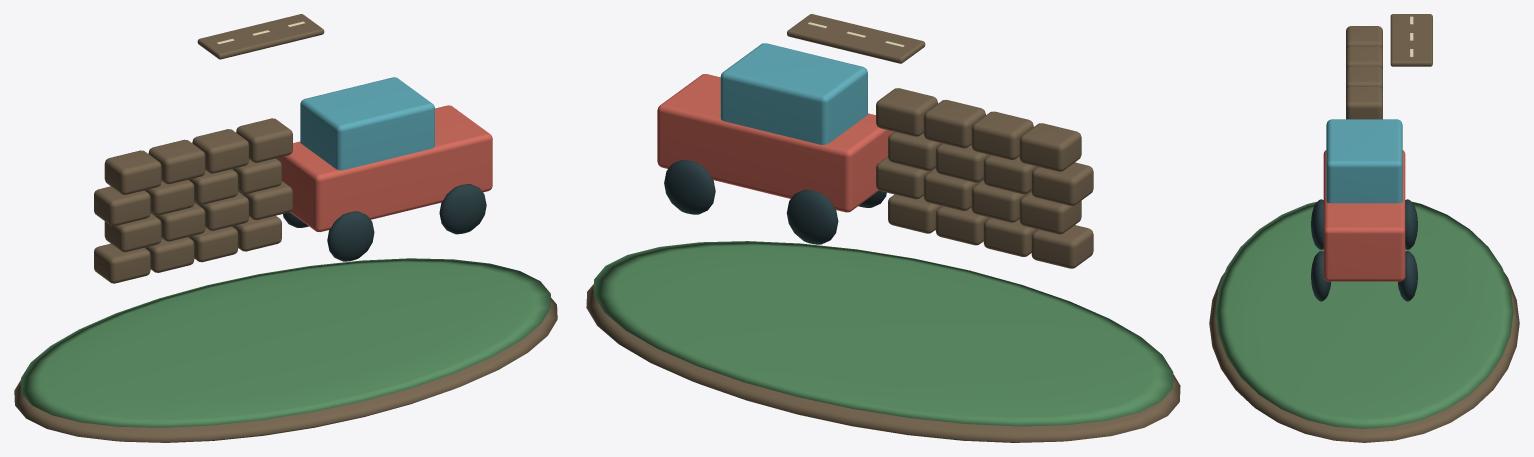
Rendered from complete-third-wall-of-vehicles.glb.
The picture shows the model from 3 angles, left to right: view 1: azimuth 30°, elevation 25°; view 2: azimuth 150°, elevation 25°; view 3: azimuth 270°, elevation 25°; orthographic projection. The views are drawn at different scales.
Parts seen in each view (by area): view 1: complete-third-wall-of-vehicles_surface_01, complete-third-wall-of-vehicles_surface_00, complete-third-wall-of-vehicles_surface_02, complete-third-wall-of-vehicles_surface_03, complete-third-wall-of-vehicles_surface_04; view 2: complete-third-wall-of-vehicles_surface_01, complete-third-wall-of-vehicles_surface_00, complete-third-wall-of-vehicles_surface_02, complete-third-wall-of-vehicles_surface_03, complete-third-wall-of-vehicles_surface_04; view 3: complete-third-wall-of-vehicles_surface_01, complete-third-wall-of-vehicles_surface_00, complete-third-wall-of-vehicles_surface_02, complete-third-wall-of-vehicles_surface_03, complete-third-wall-of-vehicles_surface_04.
Part boxes in pixels (x1,y1,x2,y2): complete-third-wall-of-vehicles_surface_01: (21,258,550,427); complete-third-wall-of-vehicles_surface_00: (14,14,557,442); complete-third-wall-of-vehicles_surface_02: (276,105,492,231); complete-third-wall-of-vehicles_surface_03: (300,77,434,170); complete-third-wall-of-vehicles_surface_04: (283,184,486,261); complete-third-wall-of-vehicles_surface_01: (593,241,1173,426); complete-third-wall-of-vehicles_surface_00: (586,14,1180,442); complete-third-wall-of-vehicles_surface_02: (657,74,893,212); complete-third-wall-of-vehicles_surface_03: (720,43,867,144); complete-third-wall-of-vehicles_surface_04: (664,160,886,244); complete-third-wall-of-vehicles_surface_01: (1215,201,1513,428); complete-third-wall-of-vehicles_surface_00: (1209,14,1519,442); complete-third-wall-of-vehicles_surface_02: (1323,150,1405,281); complete-third-wall-of-vehicles_surface_03: (1326,119,1402,203); complete-third-wall-of-vehicles_surface_04: (1311,199,1417,301).
Bounding box in the file's own units: 4.56 × 2.68 × 2.5.
